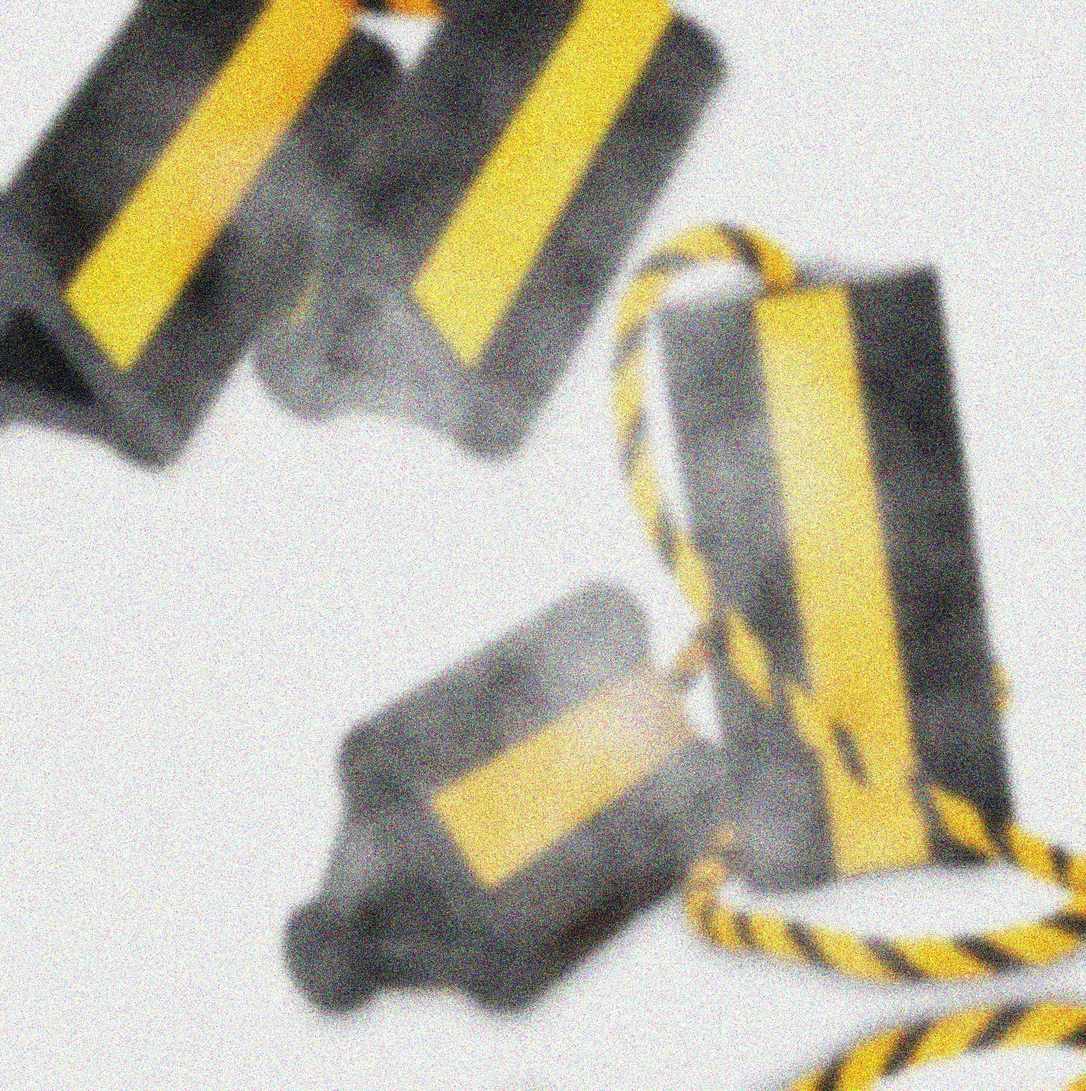chock: (189, 0, 779, 504), (646, 235, 1038, 903), (236, 558, 766, 1051), (0, 0, 460, 523)
